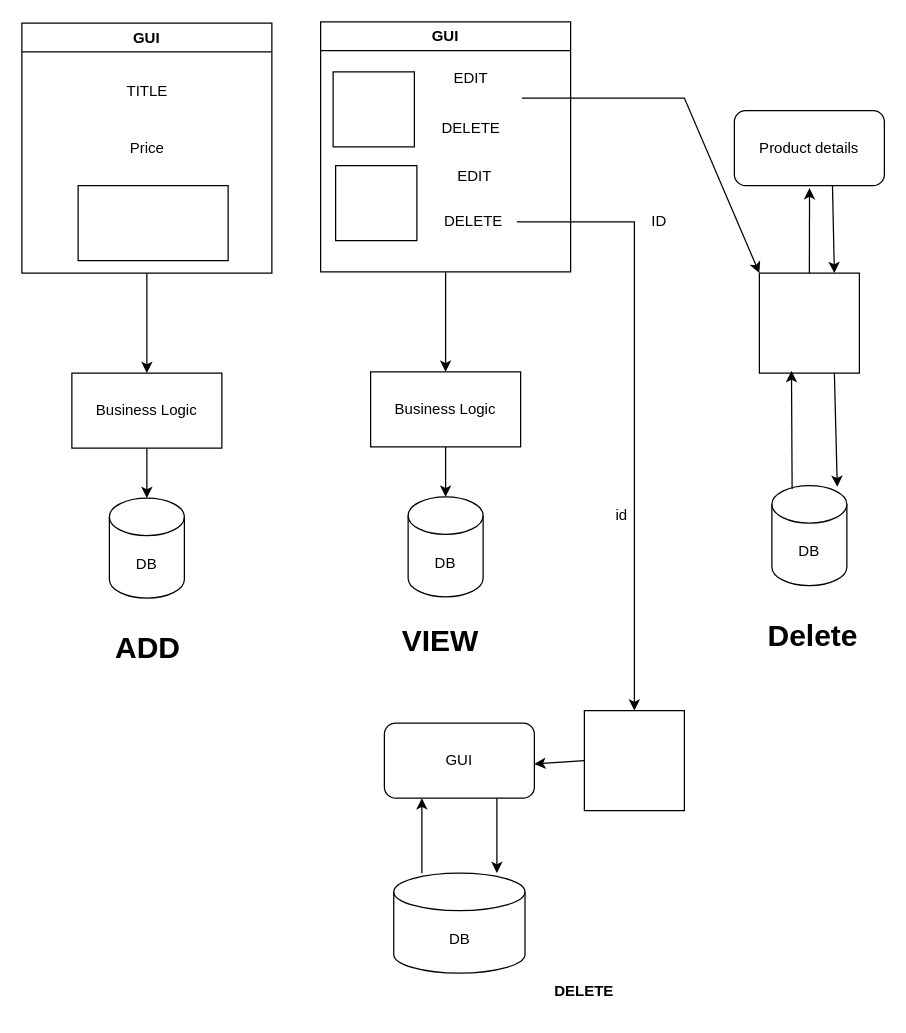
Some shapes in this 906 by 1033 pixel diagram are drawn without their labels. Each missing label, with the centre of its shape:
BL ID: (x=808, y=322)
Business Layer: (x=633, y=760)
Save: (x=152, y=222)
